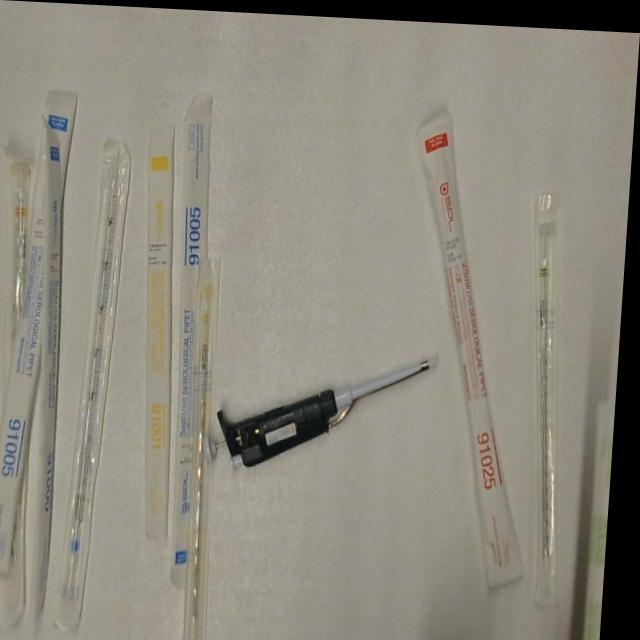Serelogical Pipet 1 mL: (126, 119, 198, 543), (179, 246, 240, 640)
Serelogical Pipet 10 mL: (0, 139, 42, 358)
Serelogical Pipet 2 mL: (513, 183, 588, 610), (585, 390, 621, 640)
Serelogical Pipet 25 mL: (393, 107, 558, 589)
Serelogical Pipet 5 mL: (55, 130, 140, 634), (0, 82, 81, 583), (160, 88, 239, 590), (15, 114, 84, 633)
Single Channel Pipettor: (205, 338, 450, 474)
